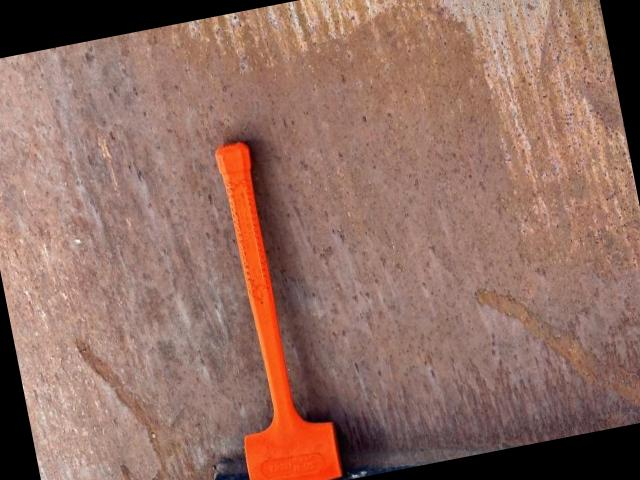hammer: (185, 134, 344, 480)
